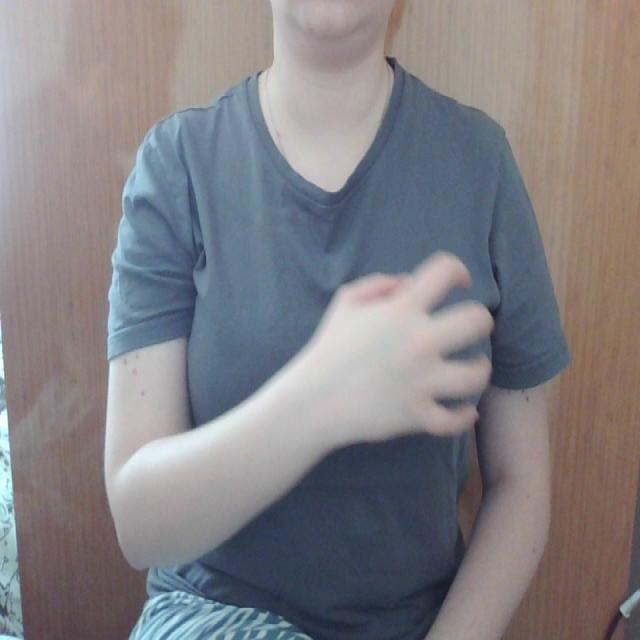Anne: (172, 244, 526, 444)
